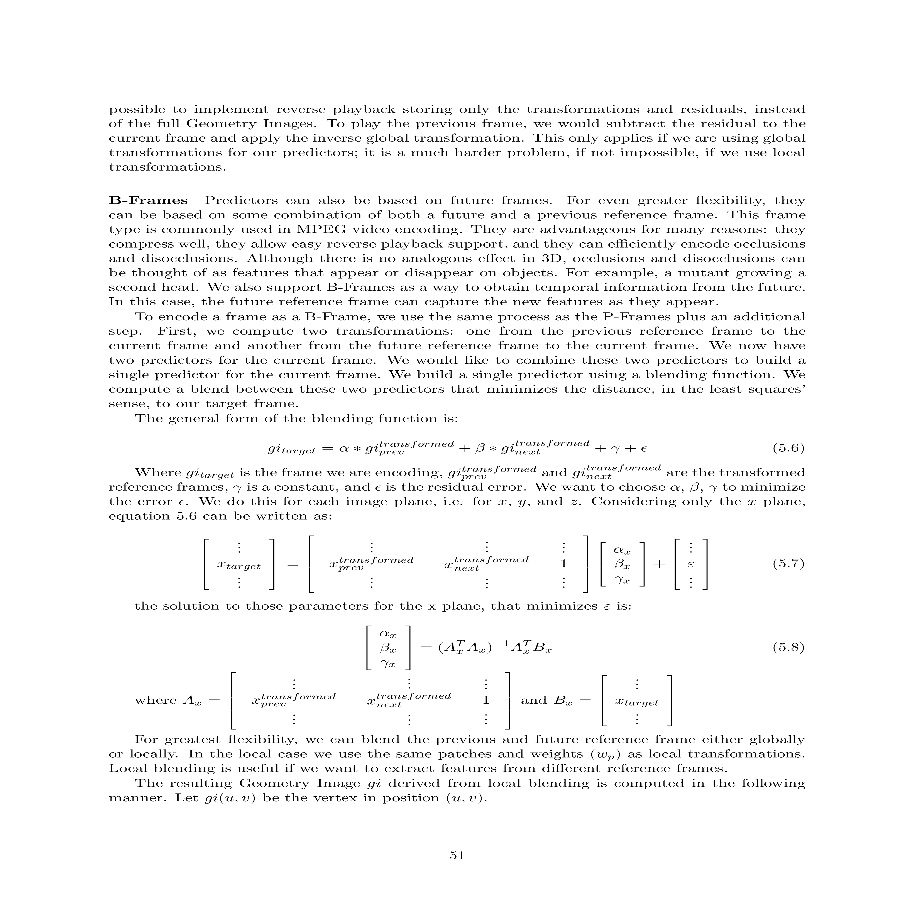eq: (193, 532, 717, 595), (184, 669, 677, 734), (359, 620, 561, 670), (264, 439, 653, 458)
